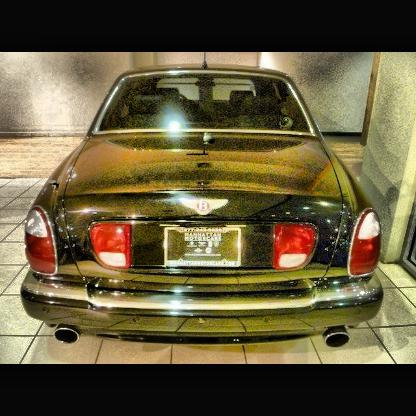Bentley Arnage Sedan 2009: (22, 54, 386, 349)
